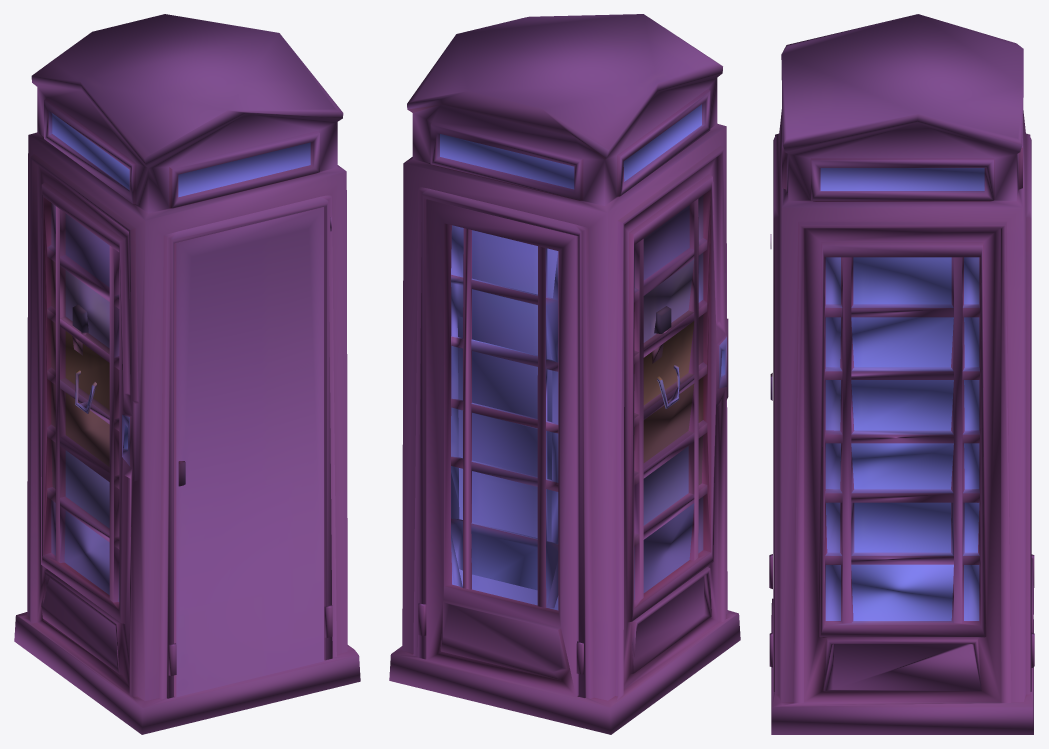
The model's file is model.progressive.glb.
The picture shows the model from 3 angles, left to right: view 1: azimuth 30°, elevation 25°; view 2: azimuth 150°, elevation 25°; view 3: azimuth 270°, elevation 25°; orthographic projection. The views are drawn at different scales.
Visible parts, largest first — view 1: material; view 2: material; view 3: material.
Boxes of the visible parts, <box> form: material: <box>14,14,360,734</box>; material: <box>389,14,740,734</box>; material: <box>769,14,1034,734</box>.
Bounding box in the file's own units: 0.6971 × 1.82 × 0.7117.
Materials: 1 (1 with a texture image).
